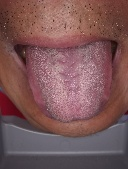tongue: (25, 51, 114, 124)
